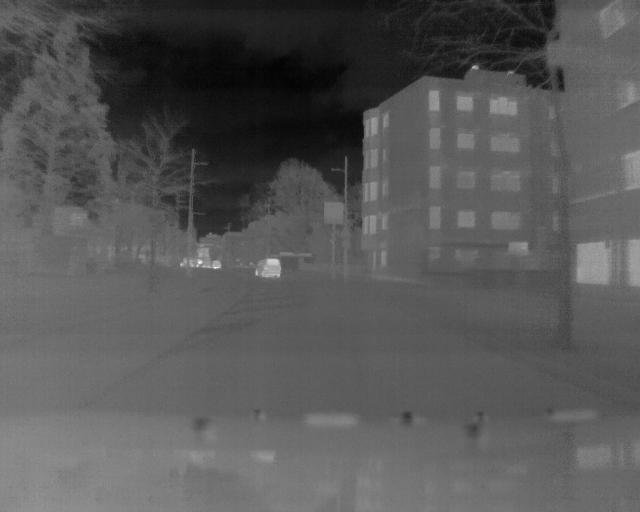car: (253, 258, 283, 278), (178, 255, 203, 271), (208, 258, 224, 269)
